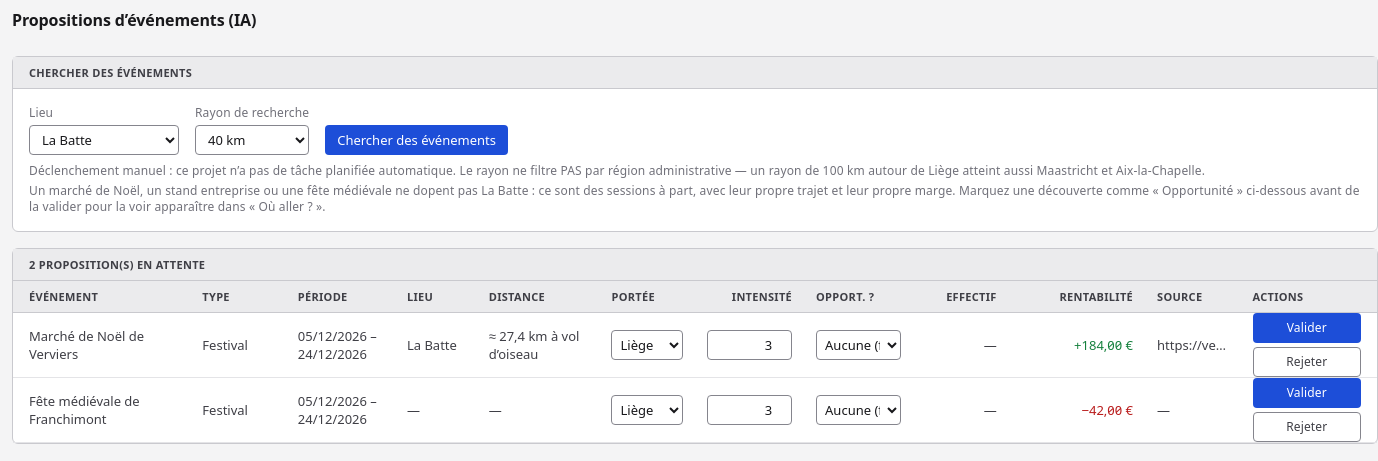
Propositions d’événements — ce qui manque s’affiche comme manquant › l’effectif ne se saisit QUE pour une opportunité « entreprise »
The image size is (1378, 461).
Expected: the text "Marché de Noël de Verviers" is shown, [13,313,190,378]
Step 1. Select "Entreprise" in the dropdown named "Famille d’opportunité de « Marché de Noël de Verviers »" → (859, 345), box [816,330,901,360]
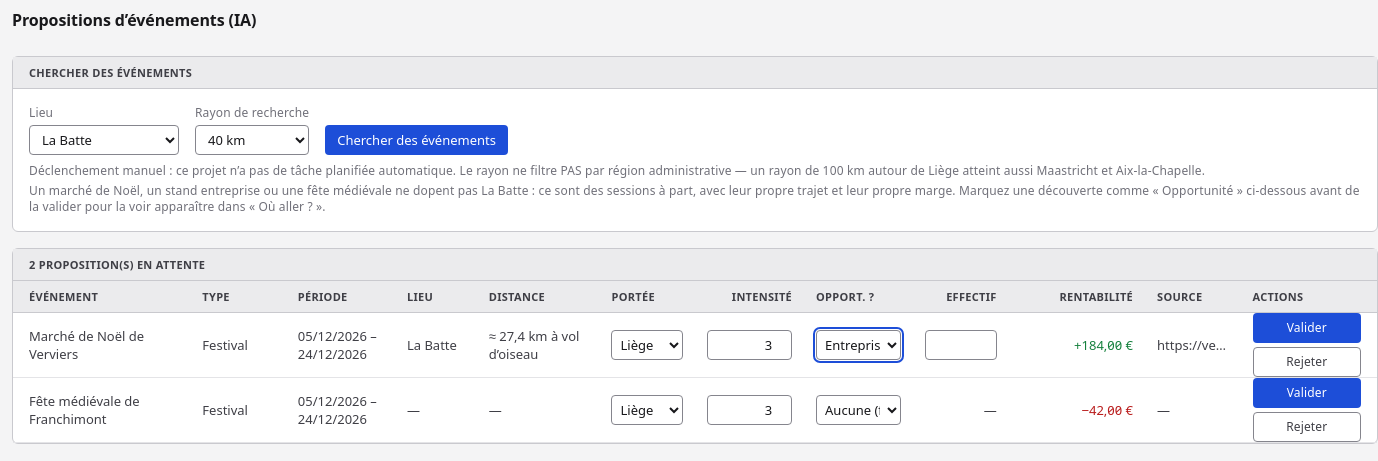
Expected: the number field named "Effectif estimé pour « Marché de Noël de Verviers »" is shown, [925,330,997,360]
